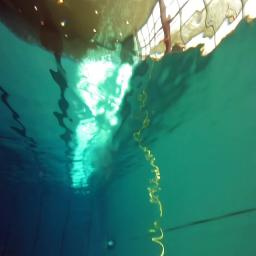Full: (104, 237, 116, 248)
